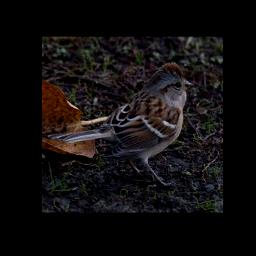Sparrow: (46, 60, 196, 190)
